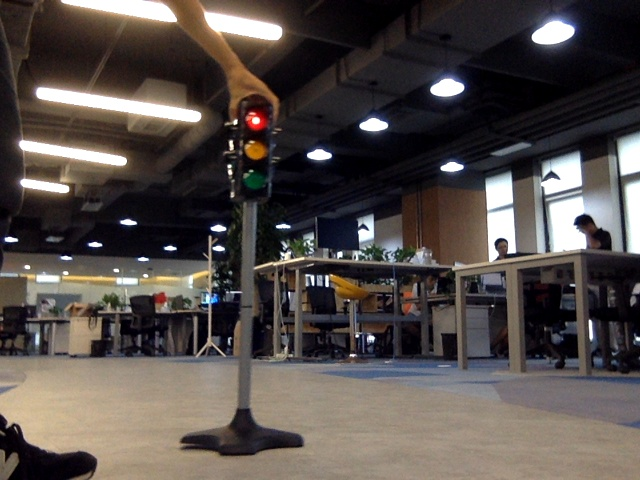red: (240, 109, 268, 192)
